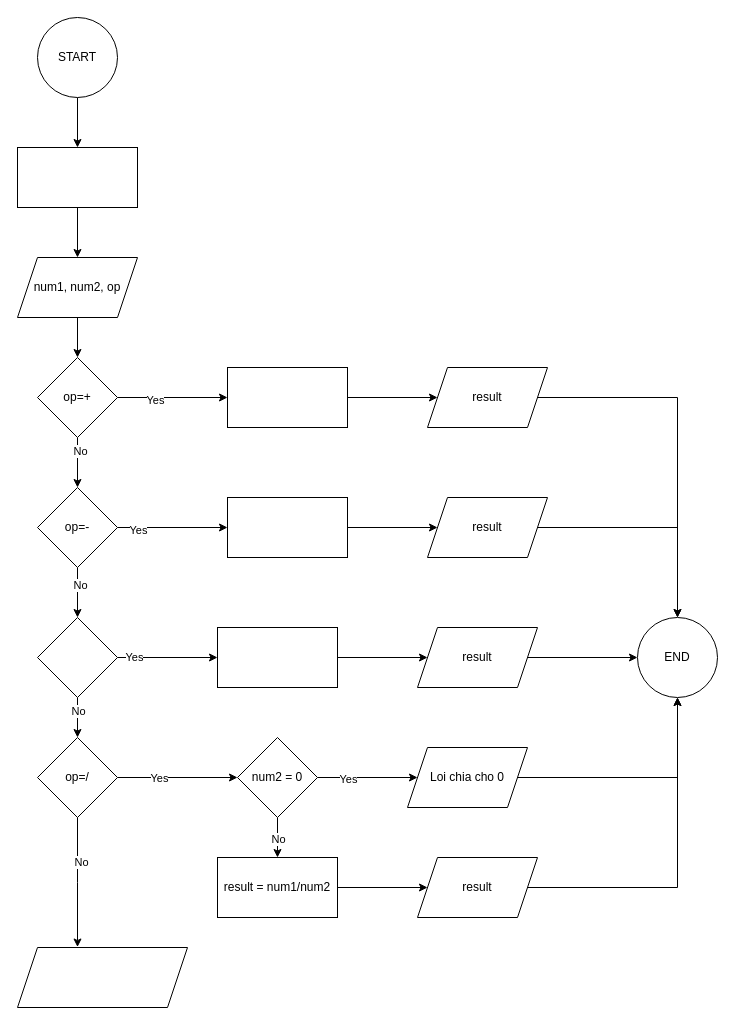
Some shapes in this 735 by 1025 pixel diagram are drawn without their labels. Here are the shapes that lost their labels. From the top down, the centre of each, then its label:
At point 77,177: "num1, num2, op, result".
At point 287,397: "result = num1 + num2".
At point 287,527: "result = num1 - num2".
At point 77,657: "op=*".
At point 277,657: "result = num1* num2".
At point 102,977: "Phep tinh khong hop le".
